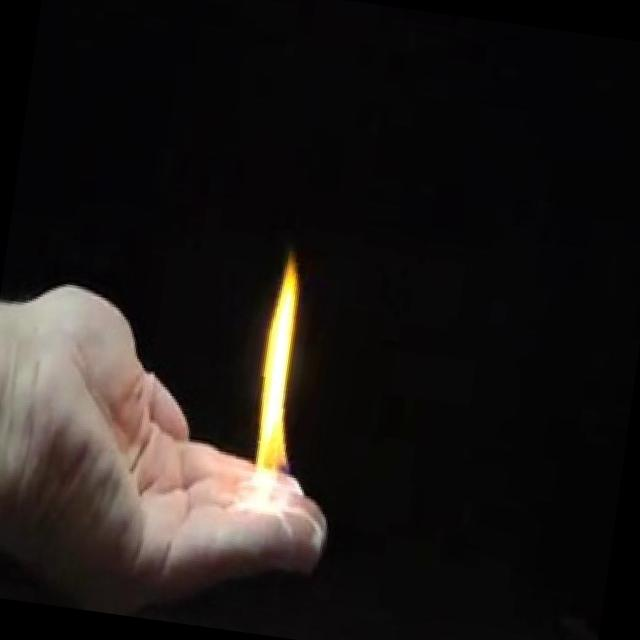Fire: (233, 237, 328, 506)
